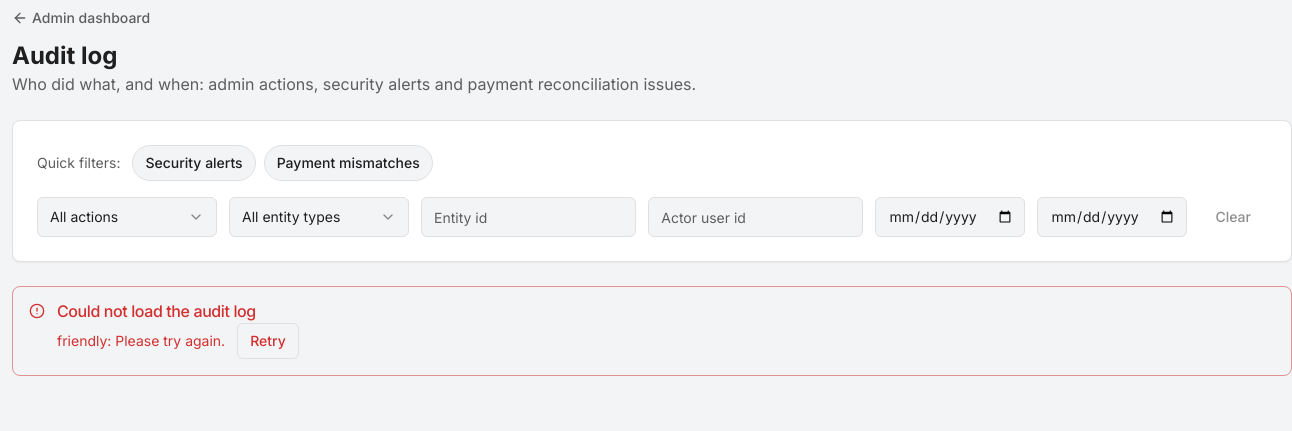
Admin audit log page › shows the API error and retries
The image size is (1292, 431).
Expected: the text "friendly: Please try again. Retry" is shown, [57, 323, 299, 359]
Click the button "Retry": (268, 341) [237, 323, 299, 359]
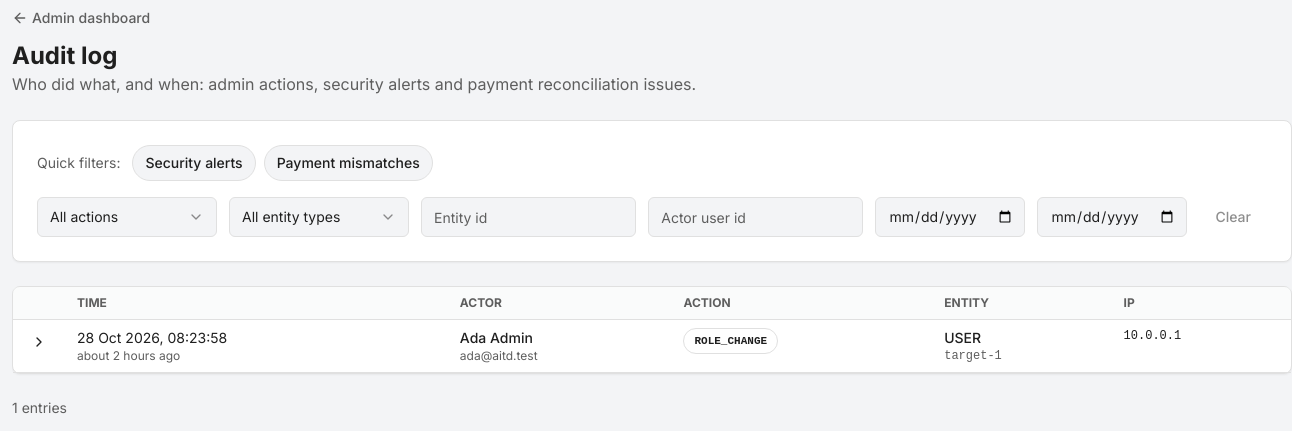
Now the text "Ada Admin" is shown, box [460, 329, 533, 346]
